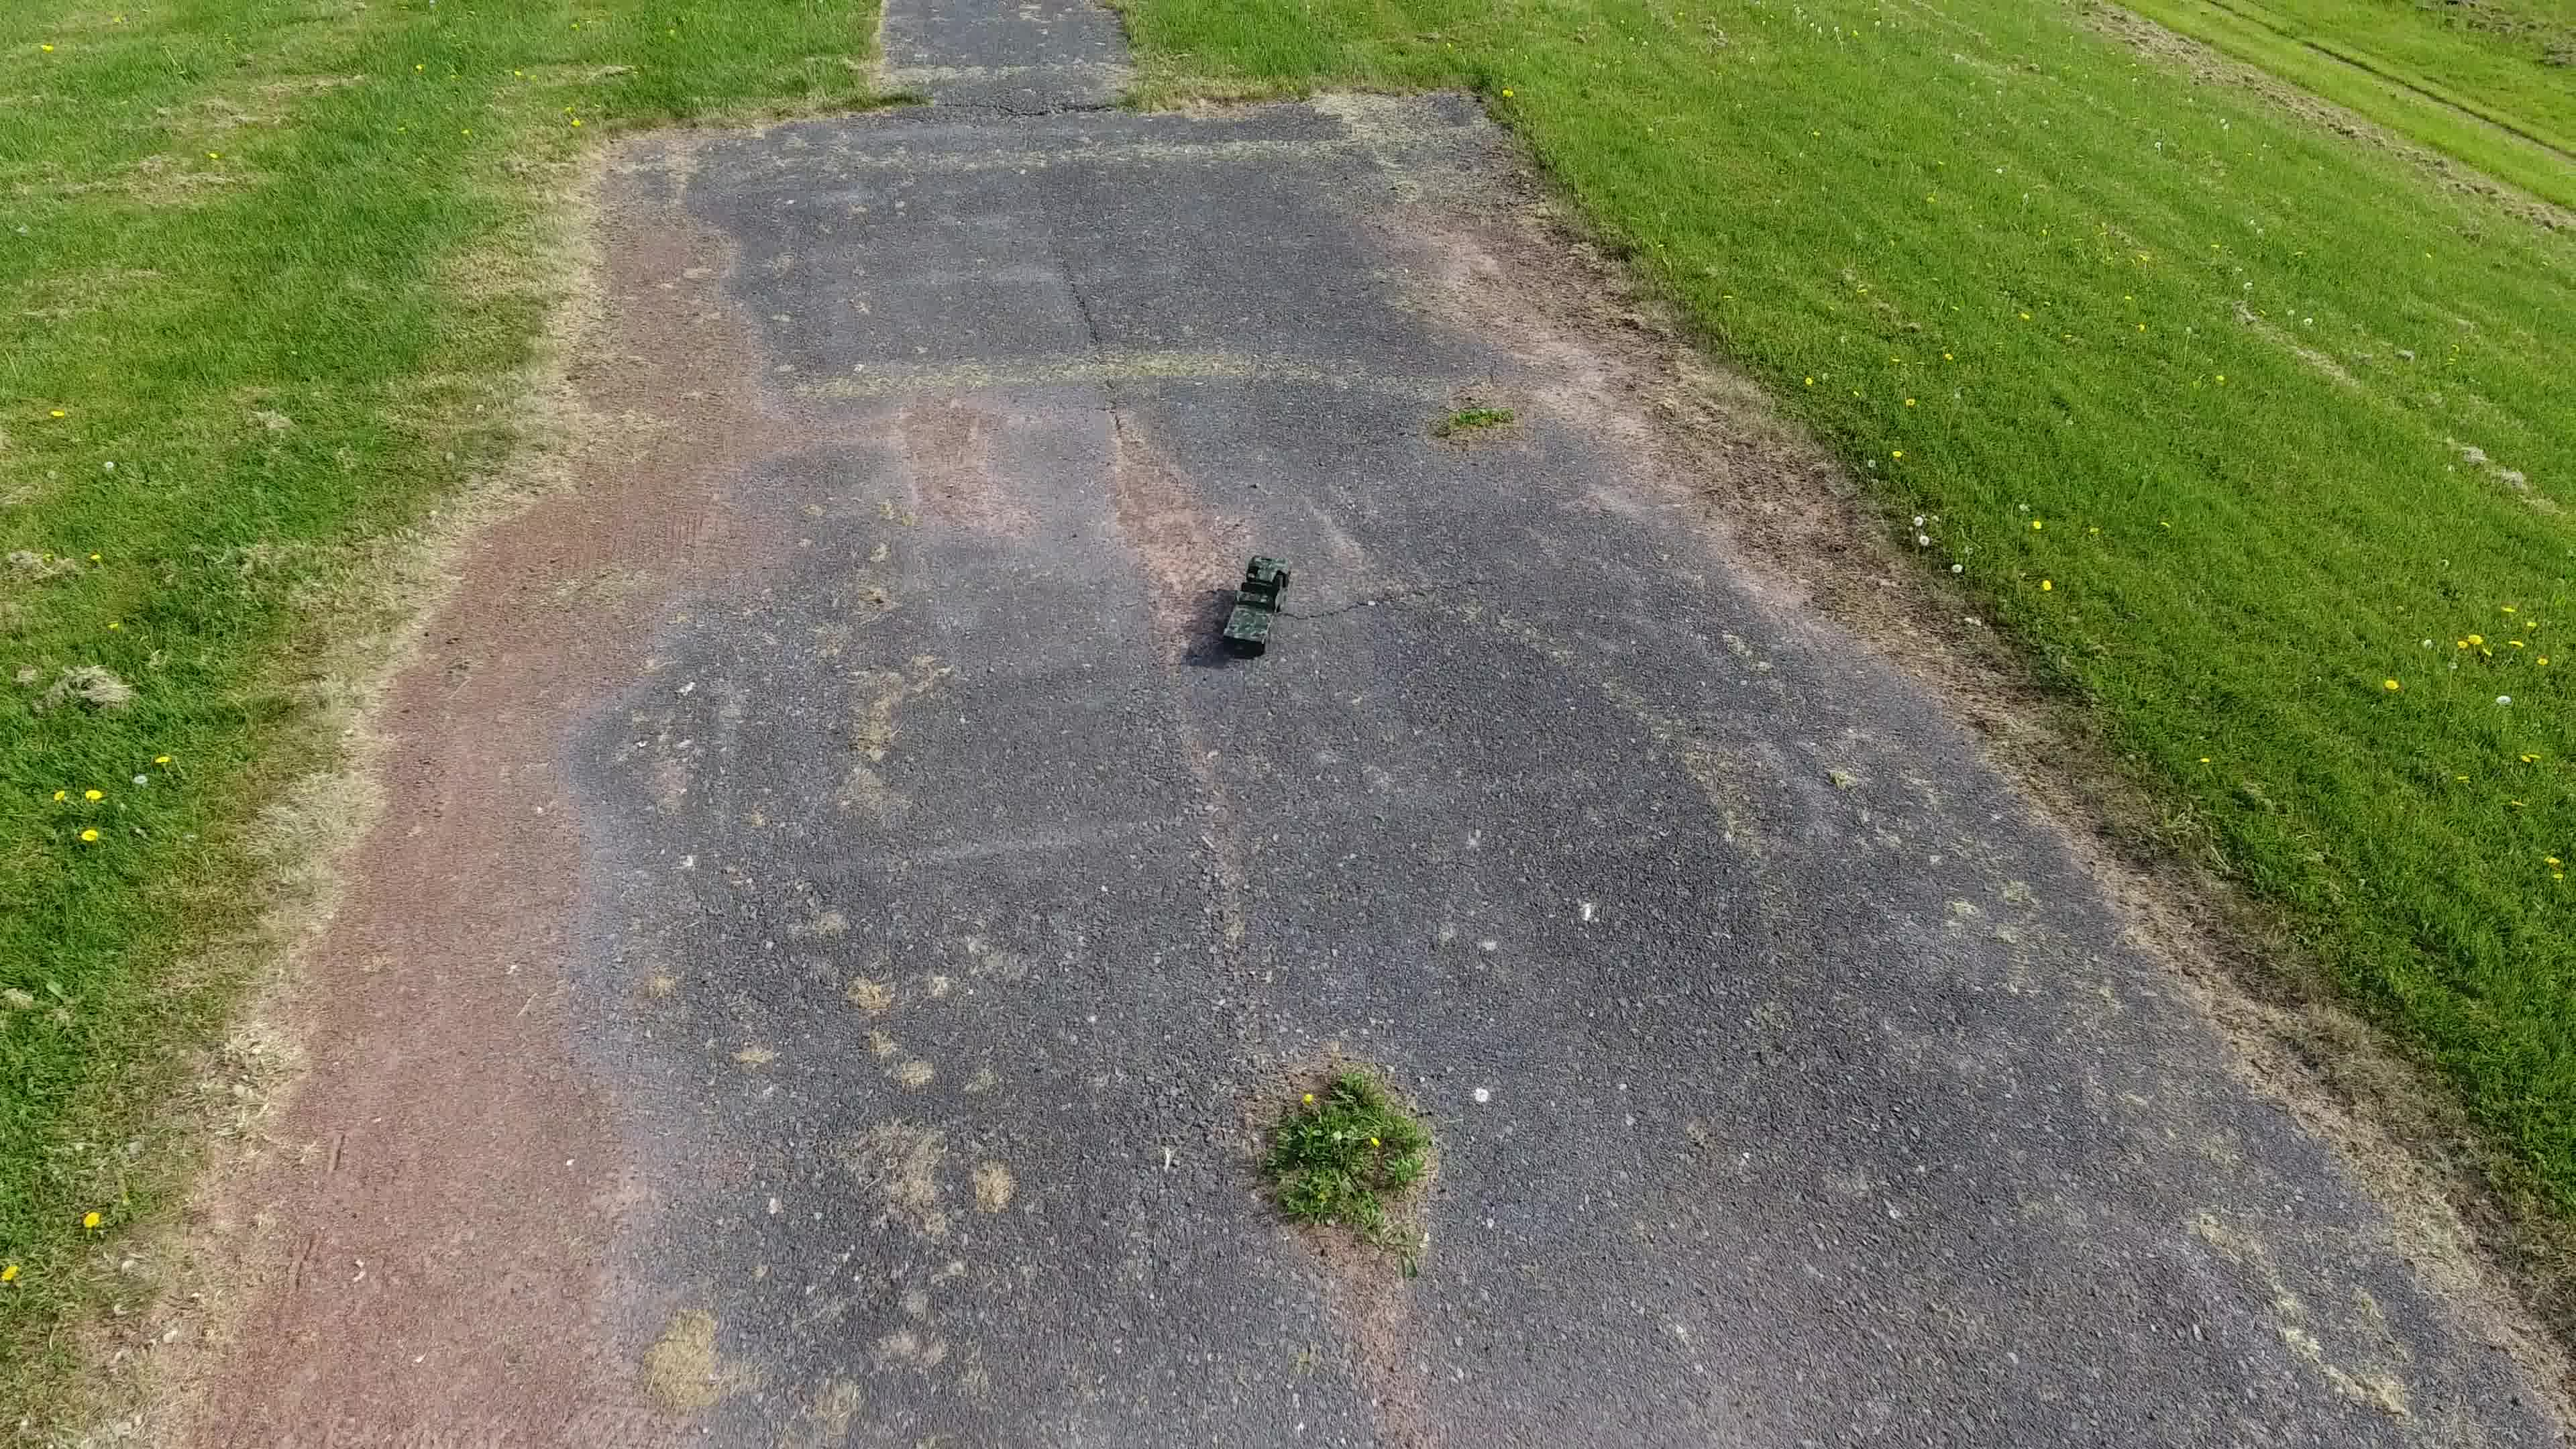transporter9_camo: (1214, 552, 1295, 663)
